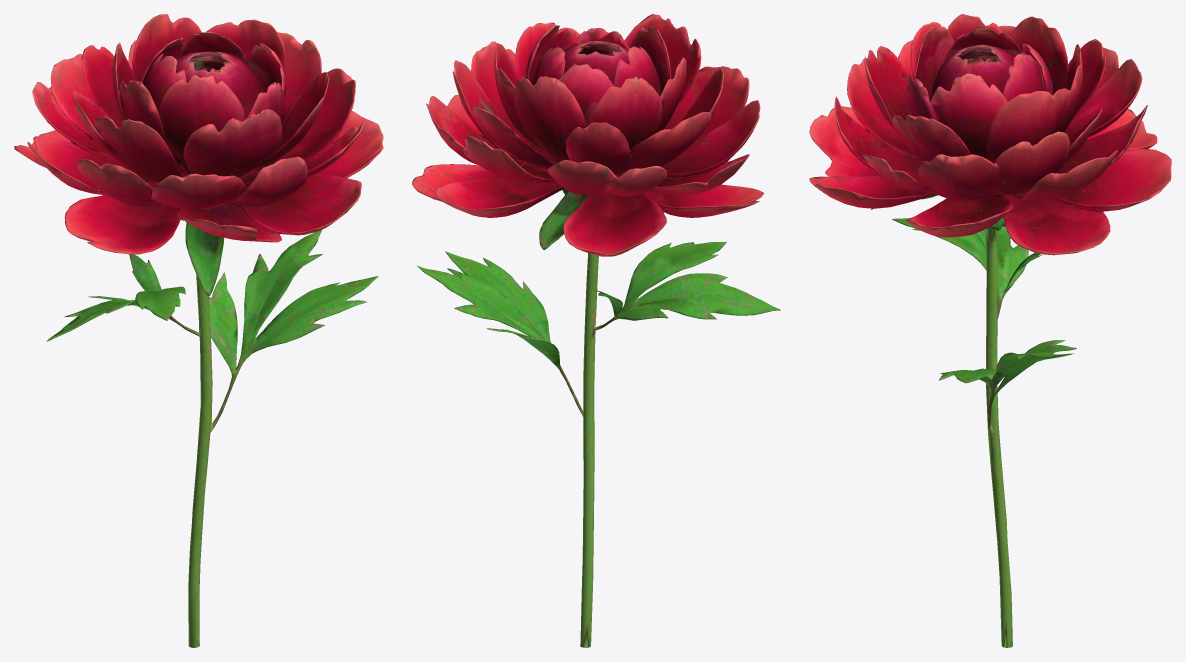
3 renders of one model, left to right at view 1: azimuth 30°, elevation 25°; view 2: azimuth 150°, elevation 25°; view 3: azimuth 270°, elevation 25°, orthographic.
Bounding box in the file's own units: 1.1 × 1.9 × 1.04.
1 material, 1 textured.
